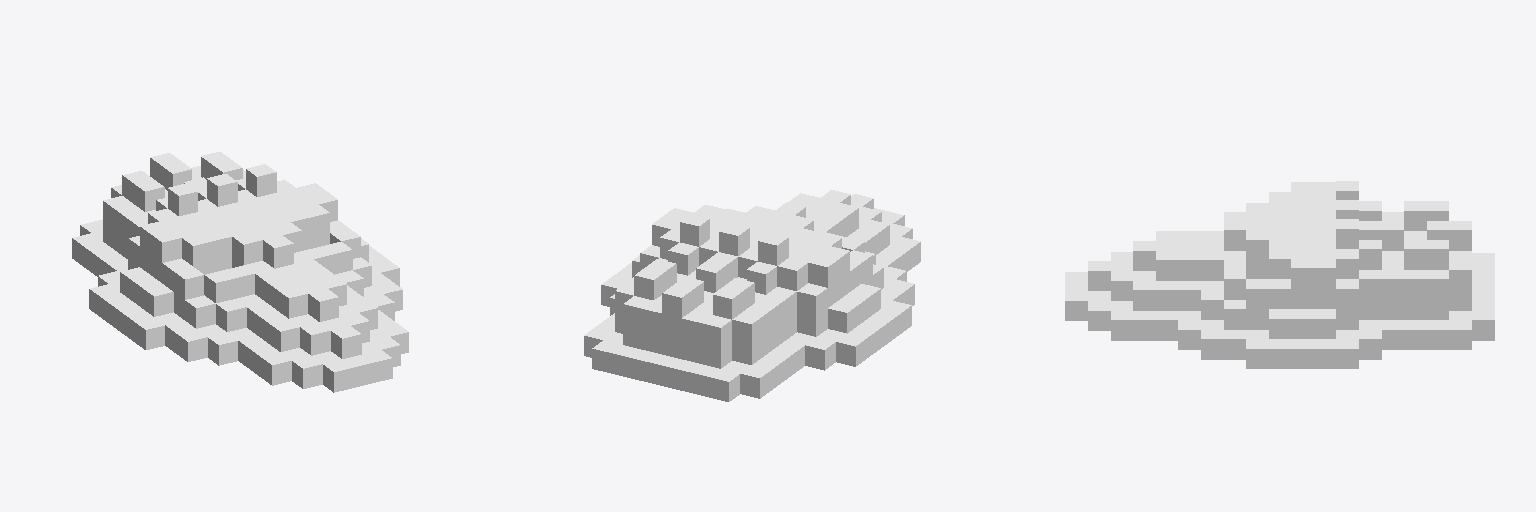
File: croc.vox-0-ElCrocodriloLookL.obj
3 renders of one model, left to right at view 1: azimuth 30°, elevation 25°; view 2: azimuth 150°, elevation 25°; view 3: azimuth 270°, elevation 25°, orthographic.
Visible parts, largest first — view 1: ElCrocodriloLookL; view 2: ElCrocodriloLookL; view 3: ElCrocodriloLookL.
Boxes of the visible parts, x1=… form: ElCrocodriloLookL: x1=72, y1=152, x2=408, y2=392; ElCrocodriloLookL: x1=584, y1=190, x2=920, y2=401; ElCrocodriloLookL: x1=1065, y1=181, x2=1494, y2=368.
Bounding box in the file's own units: 1.3 × 0.5 × 1.9.